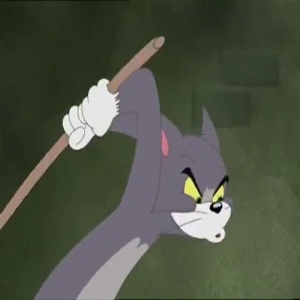Tom: (143, 122, 240, 248)
